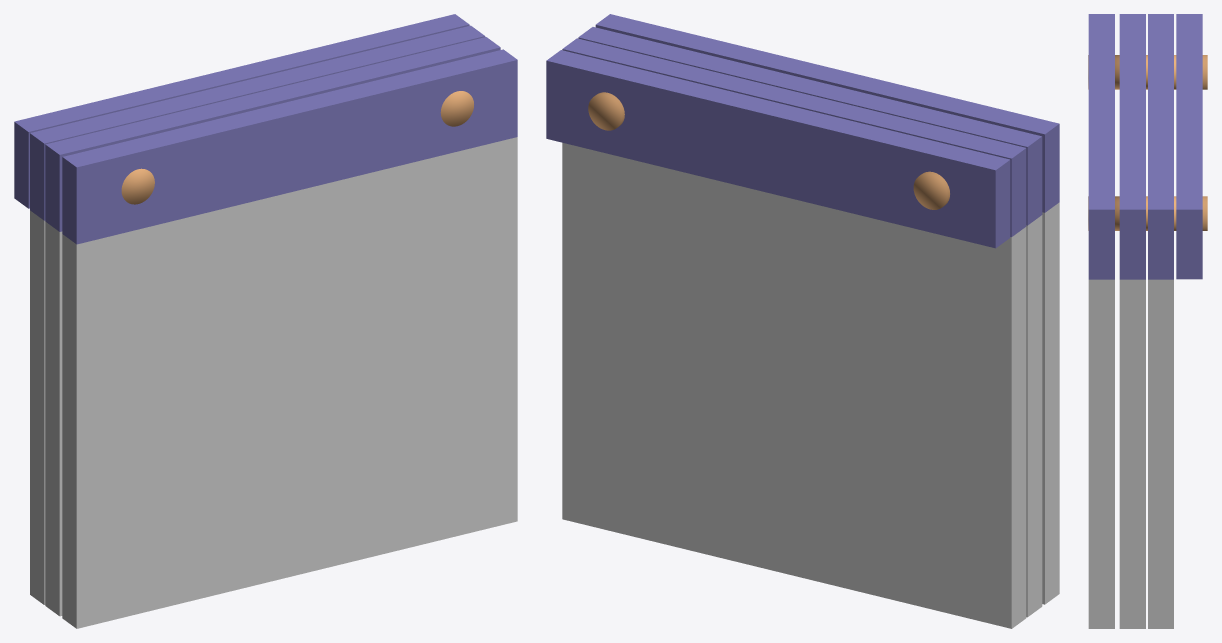
The model's file is Kalender.fbx.
3 views of the same model, side by side, from view 1: azimuth 30°, elevation 25°; view 2: azimuth 150°, elevation 25°; view 3: azimuth 270°, elevation 25° (orthographic). The views are drawn at different scales.
Visible parts, largest first — view 1: Kalender; view 2: Kalender; view 3: Kalender.
Boxes of the visible parts, x1=… form: Kalender: x1=14, y1=14, x2=517, y2=628; Kalender: x1=546, y1=14, x2=1059, y2=628; Kalender: x1=1088, y1=14, x2=1207, y2=628.
Size of the model in its own units: 200 by 200 by 51.58.
